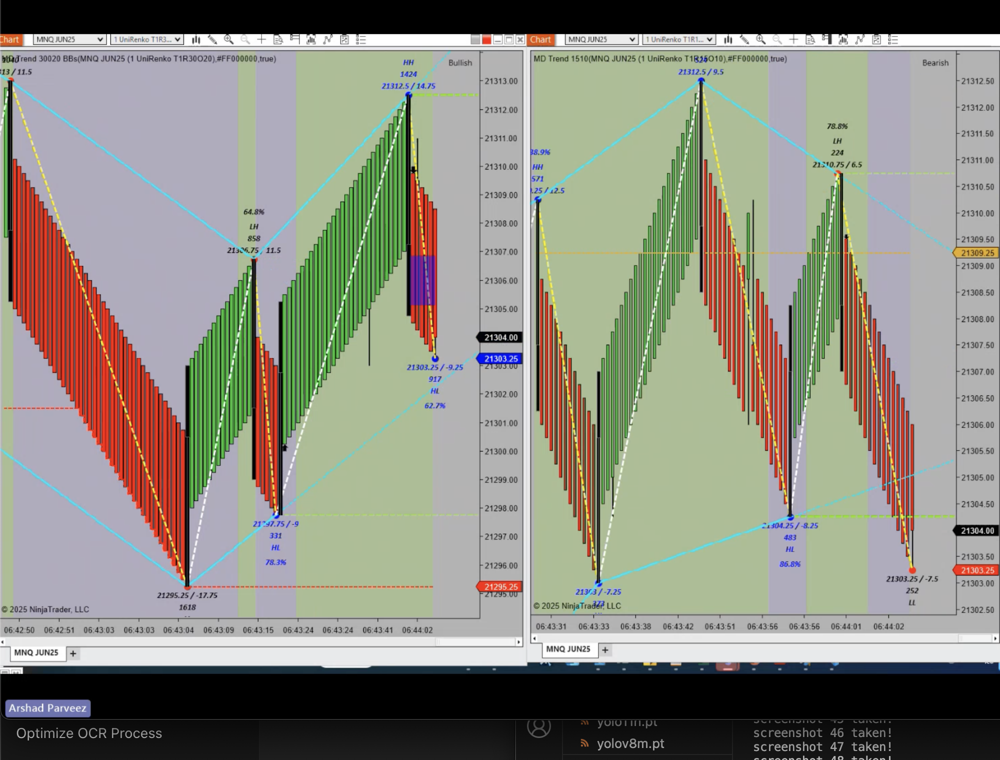HH: (527, 158, 549, 175), (399, 56, 421, 71)
HL: (422, 383, 451, 403), (780, 540, 806, 559), (267, 539, 286, 558)
LH: (826, 131, 850, 147), (244, 220, 266, 235)
LL: (903, 595, 923, 611)
